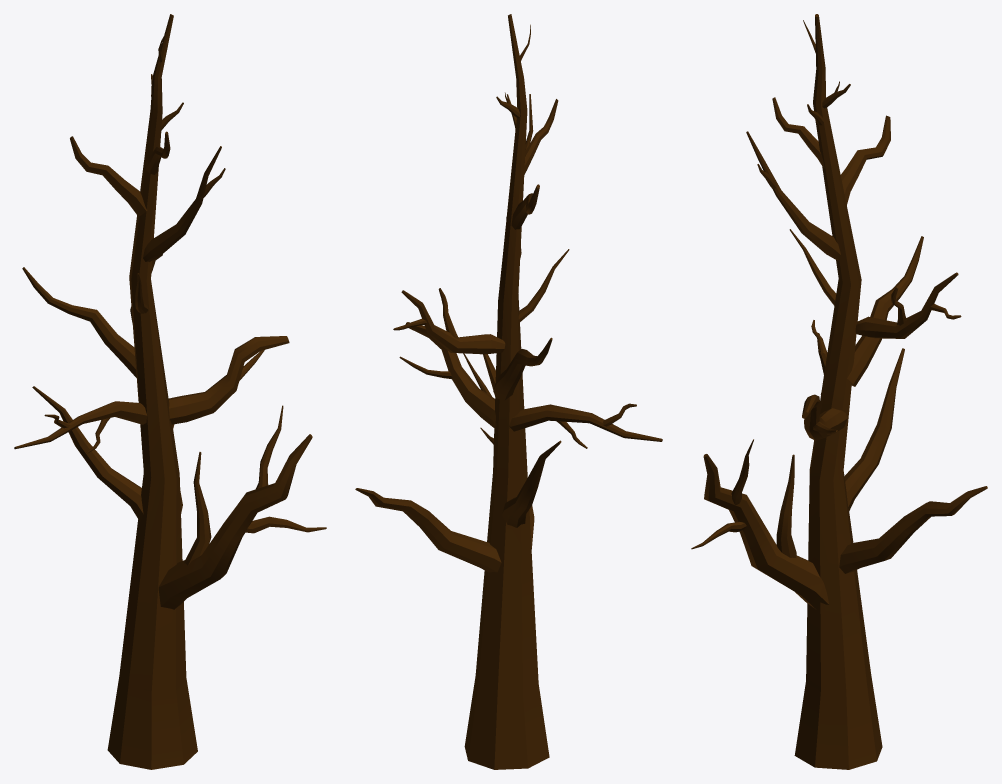
File: Father_tree.fbx
The picture shows the model from 3 angles, left to right: view 1: azimuth 30°, elevation 25°; view 2: azimuth 150°, elevation 25°; view 3: azimuth 270°, elevation 25°; orthographic projection.
Visible parts, largest first — view 1: Father_tree; view 2: Father_tree; view 3: Father_tree.
Boxes of the visible parts, x1=… form: Father_tree: x1=14, y1=14, x2=326, y2=769; Father_tree: x1=355, y1=14, x2=662, y2=769; Father_tree: x1=691, y1=14, x2=987, y2=769.
Bounding box in the file's own units: 243 × 645 × 234.
